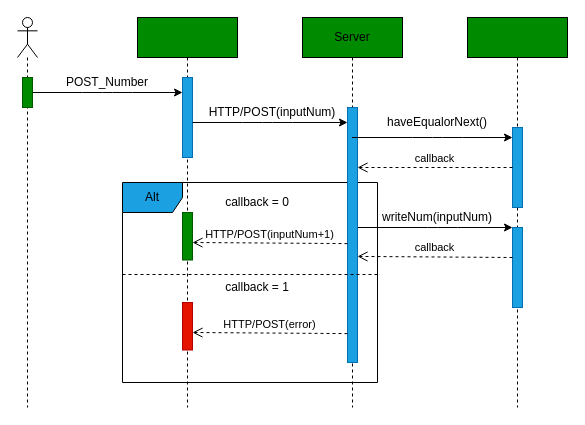
The diagram is 585 pixels wide and 425 high, and some of its shapes have lost their labels. The shapes that lost their labels are listed below. From the top down, each one's centre as x and y in pixels, then its label:
At pixel 187 212: "Client".
At pixel 517 212: "DB".
